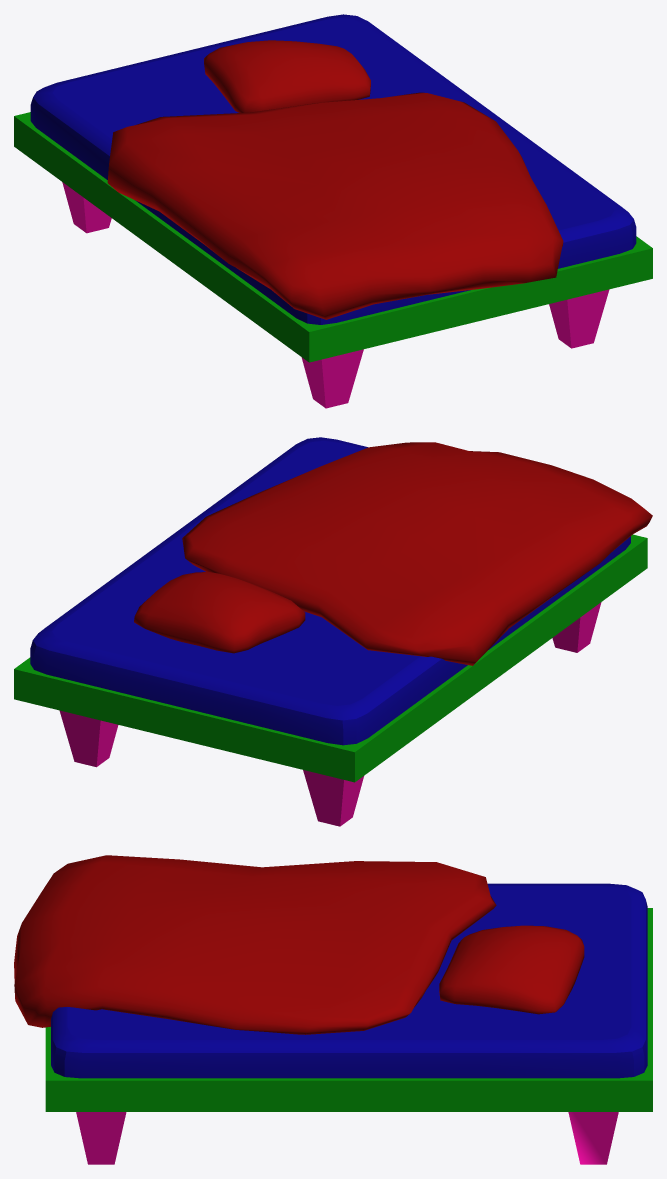
The model's file is Bed.FBX.
3 views of the same model, one above another, from view 1: azimuth 30°, elevation 25°; view 2: azimuth 150°, elevation 25°; view 3: azimuth 270°, elevation 25° (orthographic). The views are drawn at different scales.
Parts seen in each view (by area): view 1: Bed; view 2: Bed; view 3: Bed.
Boxes of the visible parts, left/top/right/bottom form: Bed: left=14, top=14, right=652, bottom=408; Bed: left=14, top=437, right=652, bottom=826; Bed: left=14, top=855, right=652, bottom=1164.
Bounding box in the file's own units: 161 × 241 × 72.18.
